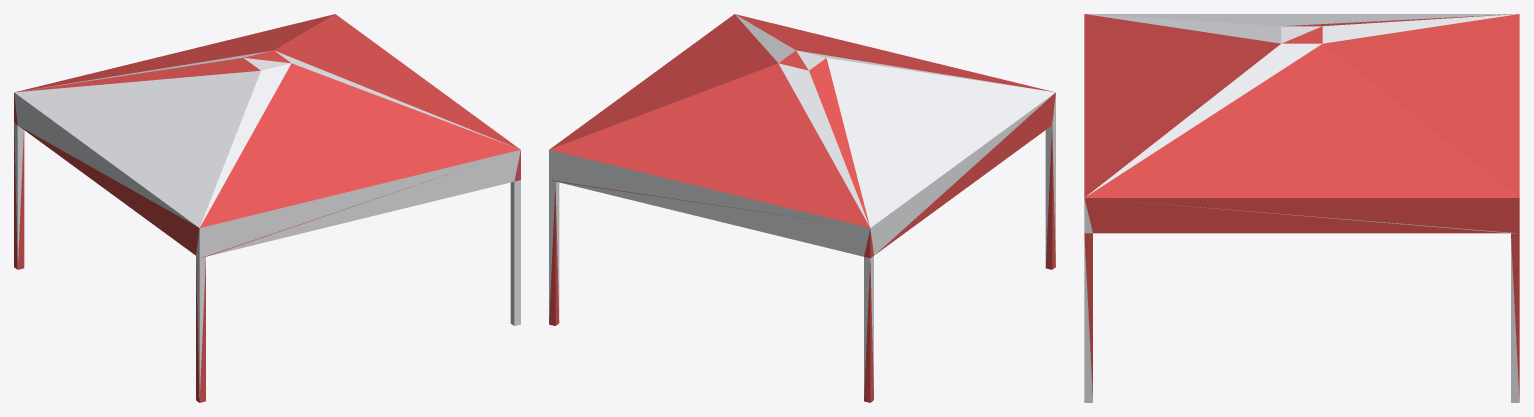
Rendered from tent.glb.
3 renders of one model, left to right at view 1: azimuth 30°, elevation 25°; view 2: azimuth 150°, elevation 25°; view 3: azimuth 270°, elevation 25°, orthographic. The views are drawn at different scales.
Parts seen in each view (by area): view 1: tent; view 2: tent; view 3: tent.
Boxes of the visible parts, x1,y1,x2,y2 form: tent: (14,14,520,402); tent: (549,14,1055,402); tent: (1084,14,1519,402).
Size of the model in its own units: 10 by 7 by 10.
